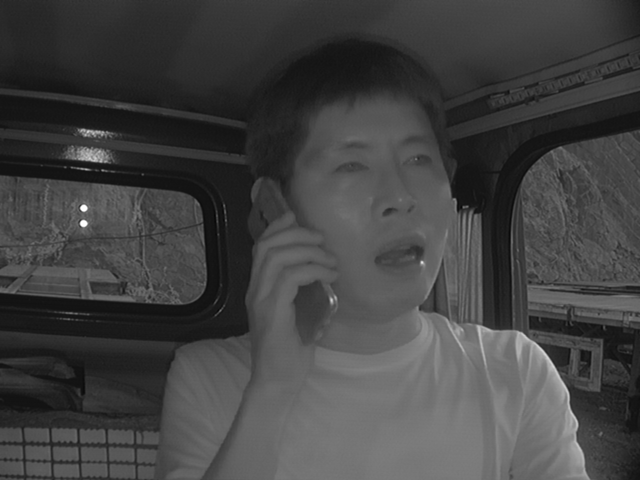hand: (237, 211, 343, 364)
